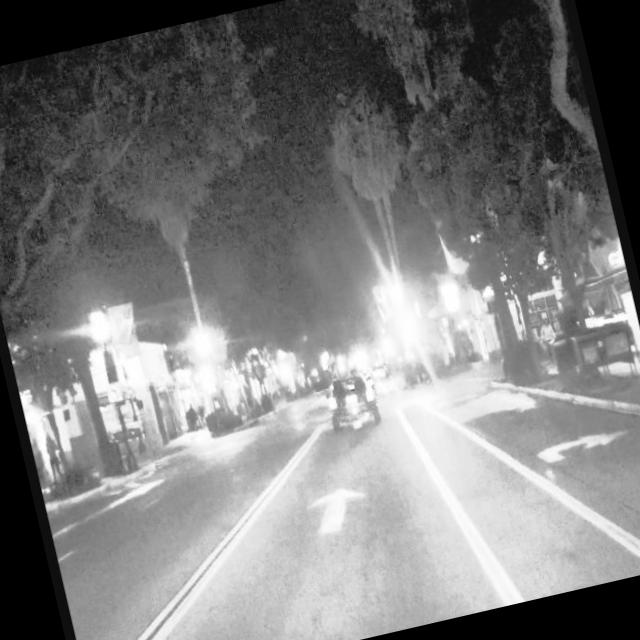Tree: (0, 55, 101, 334), (503, 0, 601, 165)
